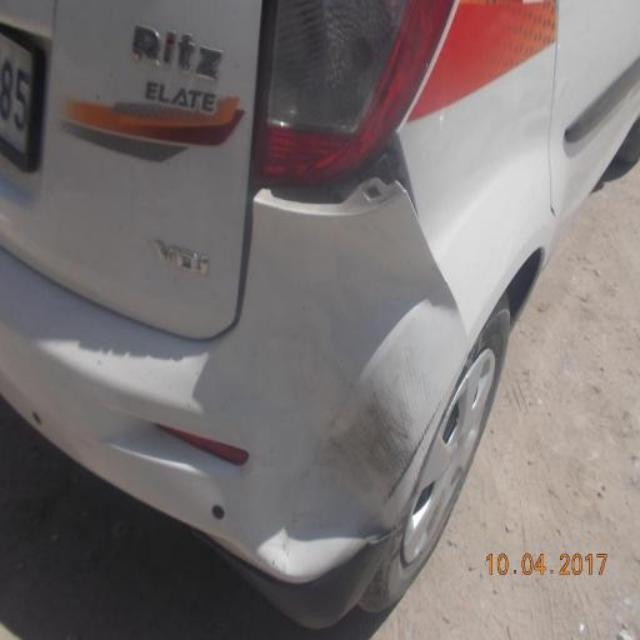dent: (259, 392, 429, 578), (369, 257, 472, 423)
dislocated part: (252, 129, 421, 220)
